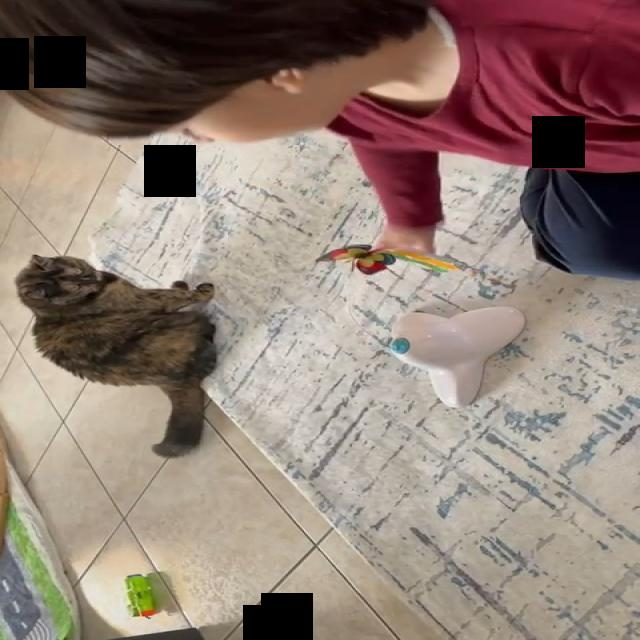authorized: (13, 253, 219, 458)
